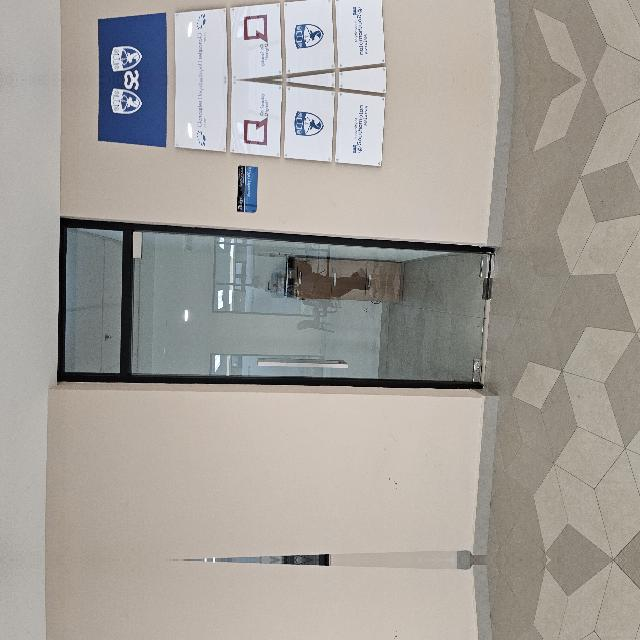door: (176, 197, 324, 581), (176, 539, 323, 640)
